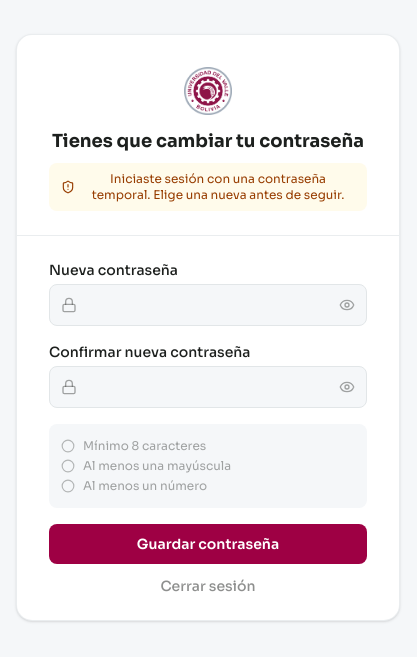
Scenario: CambiarContrasenaObligatoriaPage › rechaza en el cliente una nueva contraseña con formato de temporal
Type "UVL-b9L3q0" into the password field labelled "Nueva contraseña" at [208, 304], box 49,284 -> 367,326
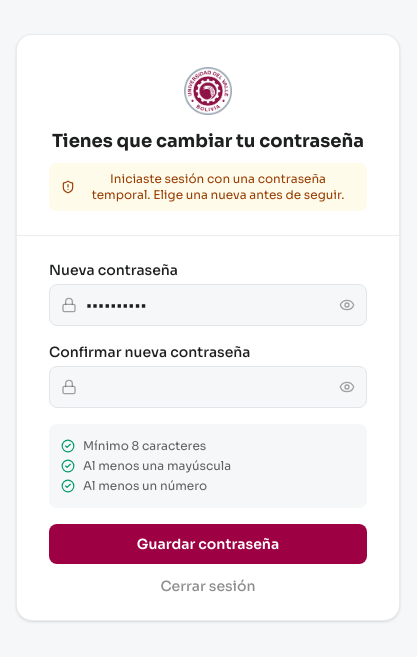
Type "UVL-b9L3q0" into the password field labelled "Confirmar nueva contraseña" at [208, 386], box 49,366 -> 367,408
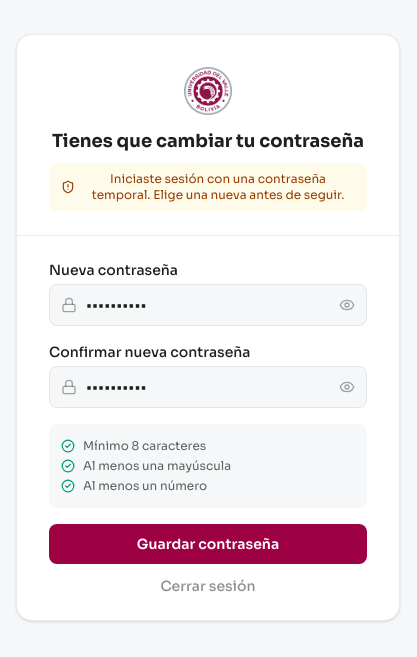
Click the button "Guardar contraseña" at [208, 544], box 49,524 -> 367,564
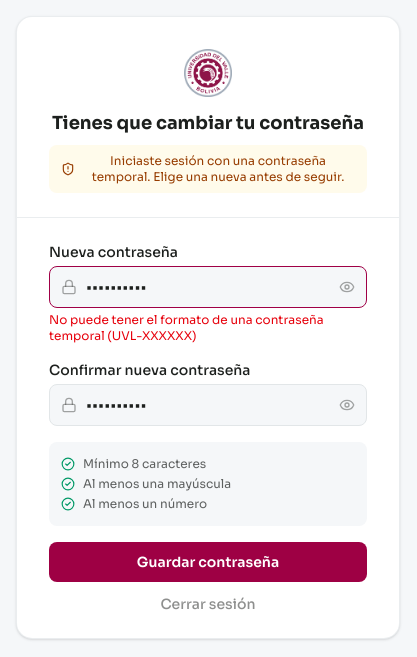
Expected: the text "No puede tener el formato de una contraseña temporal (UVL-XXXXXX)" is shown, 49,312 -> 367,344
